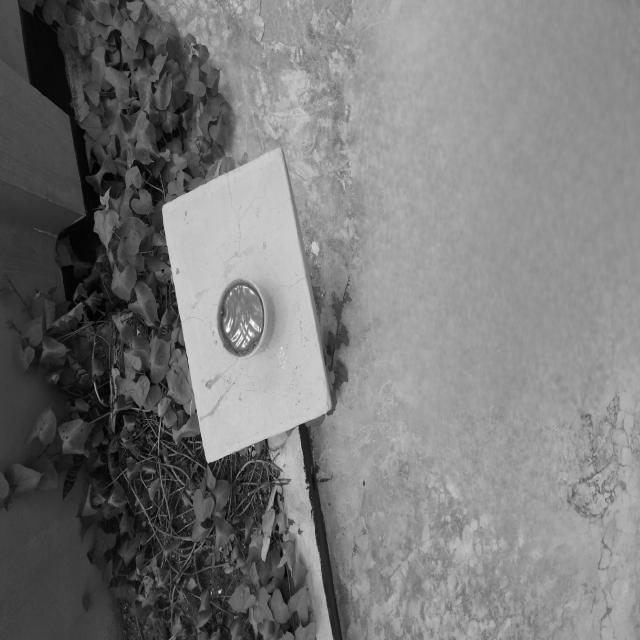Breeding Place: (15, 0, 341, 640), (208, 270, 274, 370)
